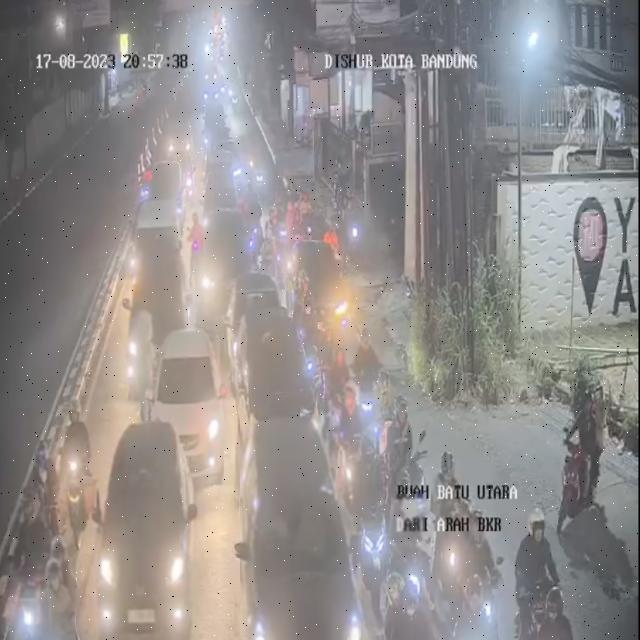cars: (240, 415, 361, 637), (89, 420, 196, 640), (152, 322, 224, 506), (126, 192, 189, 310), (196, 196, 250, 327), (126, 264, 188, 377), (246, 322, 305, 420), (289, 244, 348, 326), (224, 269, 281, 340), (164, 107, 199, 167)
motorcycle: (516, 502, 566, 635), (58, 397, 99, 544), (436, 441, 471, 595), (10, 482, 44, 631), (31, 533, 75, 640), (392, 494, 426, 629), (338, 378, 366, 505), (381, 577, 435, 640), (352, 328, 382, 438), (33, 441, 60, 556), (473, 531, 501, 637), (528, 585, 580, 640), (325, 342, 355, 420), (289, 272, 320, 342), (273, 180, 293, 258), (378, 368, 399, 428), (260, 225, 282, 282), (210, 0, 232, 51), (188, 205, 203, 274), (395, 393, 412, 435)
